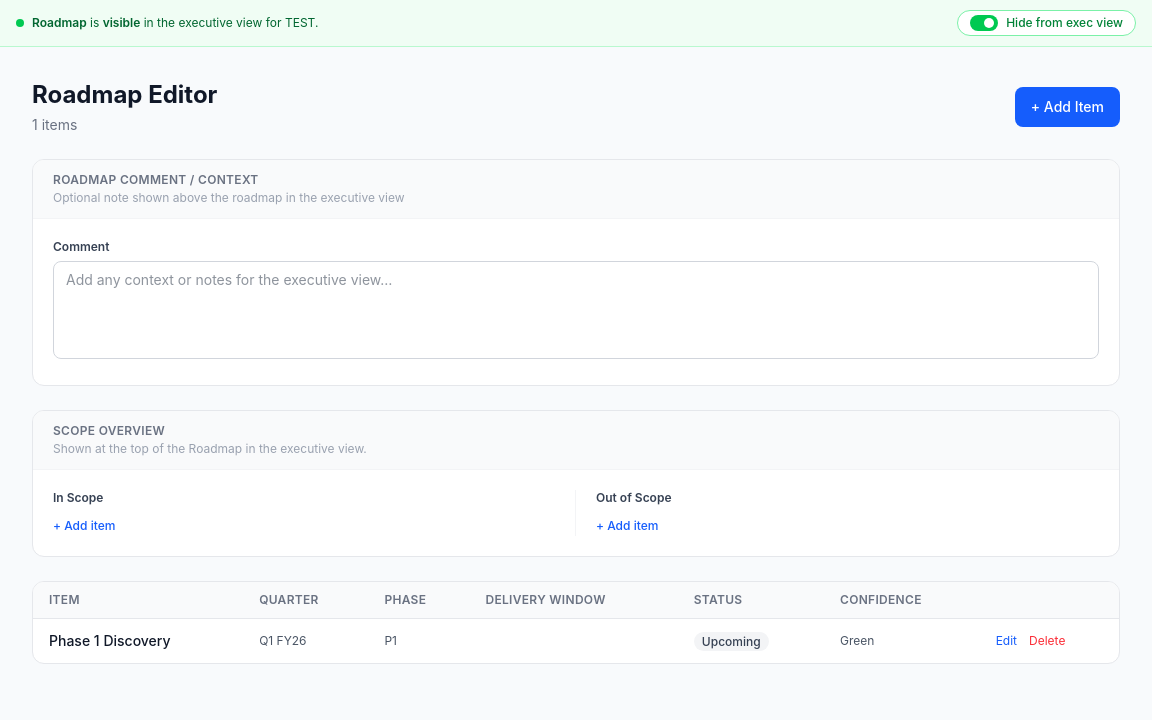
Test: RoadmapEditor › T-33.05: Delete button removes the roadmap item
This screenshot has width=1152, height=720.
Expected: the text "Phase 1 Discovery" is shown, [33,618,243,663]
Click the button "Delete" at (1047, 641), box [1029,633,1065,649]
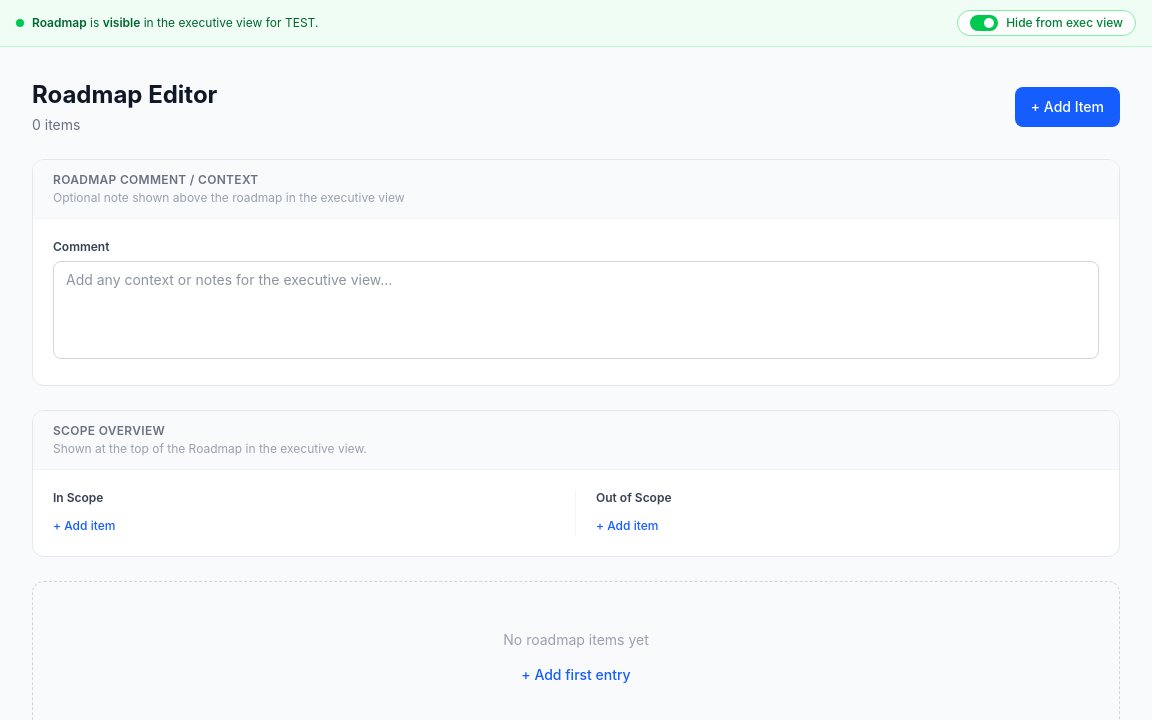
Expected: the text "Phase 1 Discovery" is gone
